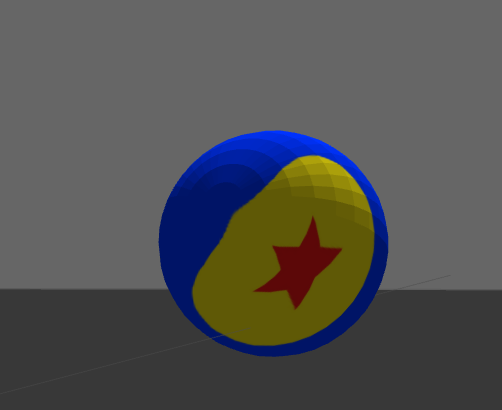toy story ball: (160, 130, 388, 357)
